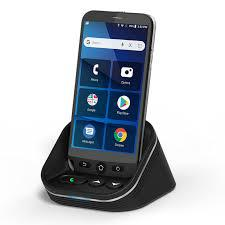Smartphone: (76, 9, 147, 183)
